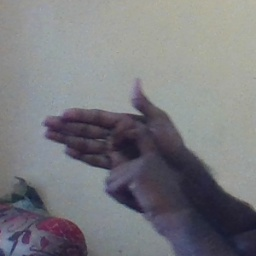R: (43, 75, 176, 210)
